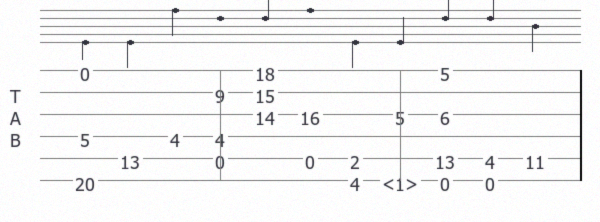0: (80, 62, 94, 79), (215, 150, 229, 167), (305, 150, 319, 167), (440, 172, 454, 189), (485, 172, 499, 189)
11: (525, 150, 549, 167)
13: (120, 150, 144, 167), (435, 150, 459, 167)
14: (255, 106, 279, 123)
15: (255, 84, 279, 101)
16: (300, 106, 324, 123)
18: (255, 62, 279, 79)
2: (350, 150, 364, 167)
20: (75, 172, 99, 189)
4: (170, 128, 184, 145), (215, 128, 229, 145), (350, 172, 364, 189), (485, 150, 499, 167)
5: (80, 128, 94, 145), (395, 106, 409, 123), (440, 62, 454, 79)
6: (440, 106, 454, 123)
9: (215, 84, 229, 101)
harmonic: (382, 172, 422, 189)
